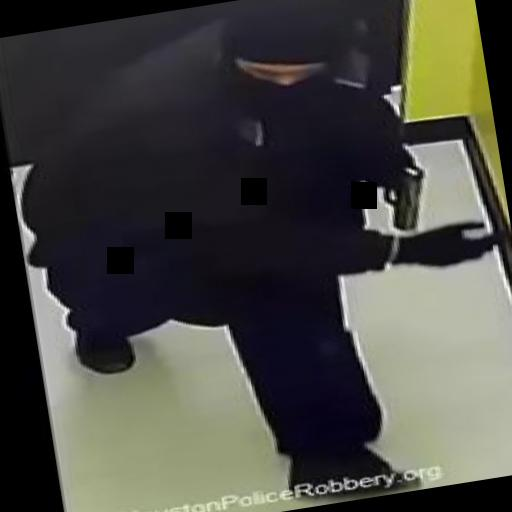Handgun: (357, 156, 430, 234)
